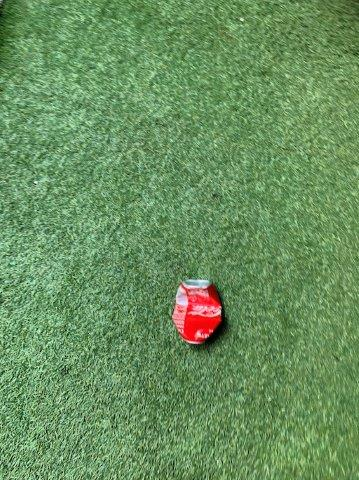kaleng: (173, 281, 222, 343)
